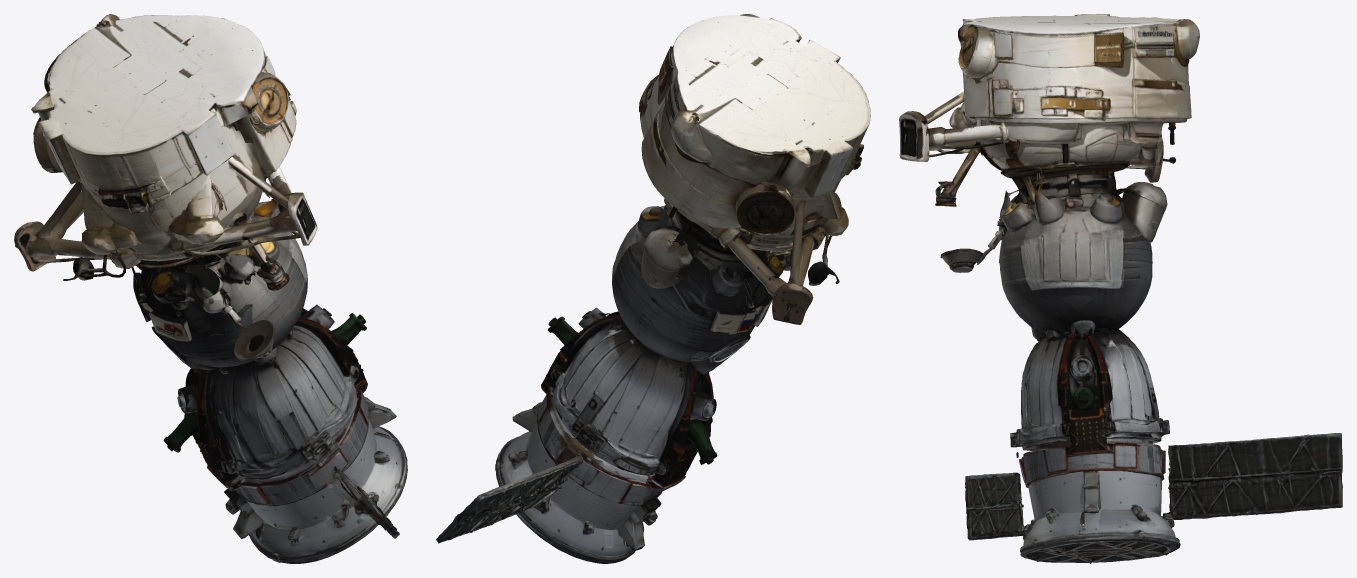
The model's file is transport-14.glb.
3 renders of one model, left to right at view 1: azimuth 30°, elevation 25°; view 2: azimuth 150°, elevation 25°; view 3: azimuth 270°, elevation 25°, orthographic. The views are drawn at different scales.
Bounding box in the file's own units: 1.1 × 1.63 × 1.28.
1 material, 1 textured.
